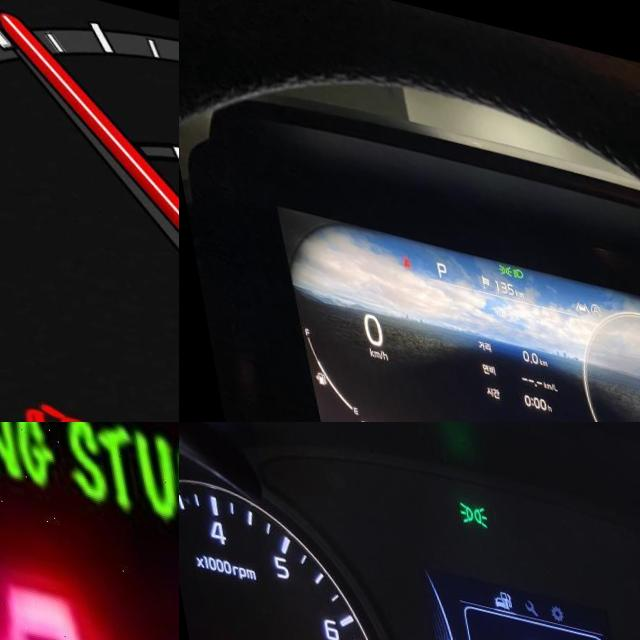Low beam: (502, 249, 515, 264)
SideLamp: (449, 482, 481, 513), (488, 246, 503, 261)
